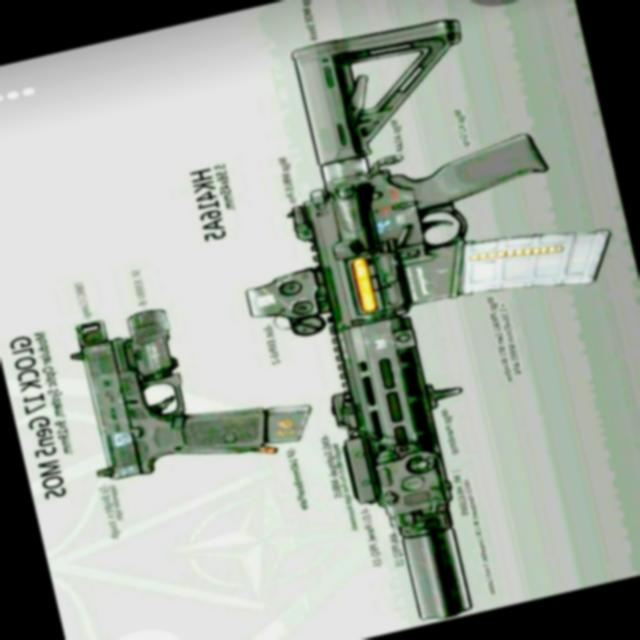m16: (251, 193, 640, 637)
